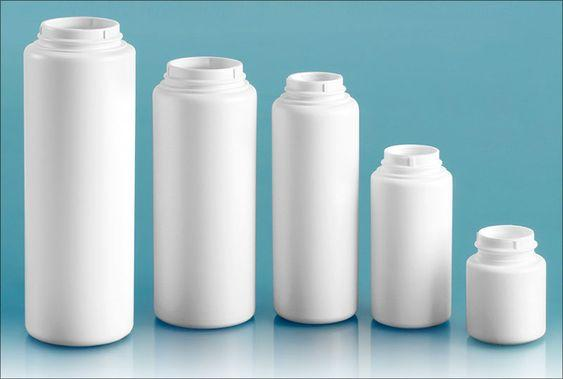HDPE: (24, 16, 137, 347), (153, 54, 256, 329), (271, 71, 361, 324), (370, 143, 454, 330), (466, 226, 546, 345)
